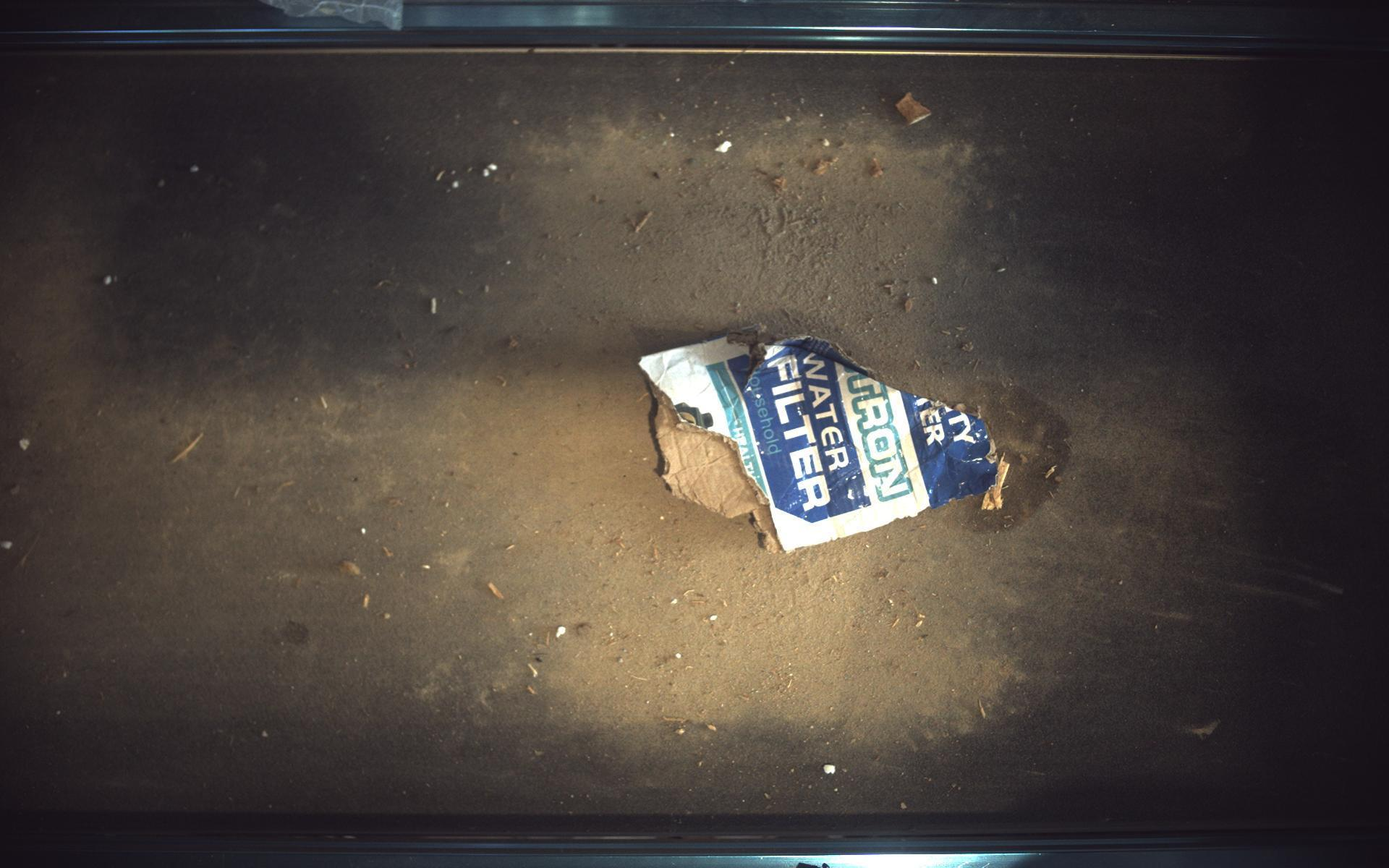general_w: (641, 333, 1004, 552)
